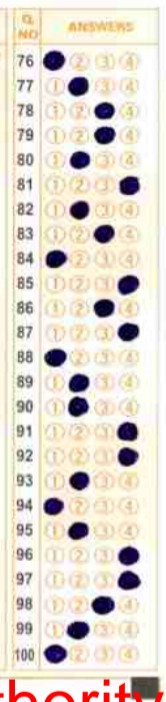filled circles: (92, 596, 115, 615), (43, 50, 64, 70), (119, 176, 140, 196), (44, 644, 66, 663), (68, 396, 88, 416), (118, 546, 139, 565), (67, 621, 89, 639), (118, 571, 140, 589), (118, 275, 138, 294), (68, 77, 88, 96), (69, 471, 89, 490), (117, 421, 137, 440), (69, 373, 89, 392), (94, 224, 114, 243), (118, 447, 138, 466), (68, 522, 89, 540), (44, 349, 66, 366), (70, 200, 89, 219), (94, 299, 114, 317), (118, 323, 138, 341), (70, 151, 90, 169), (94, 126, 115, 143), (44, 497, 63, 515), (46, 250, 66, 267), (94, 102, 114, 118)
